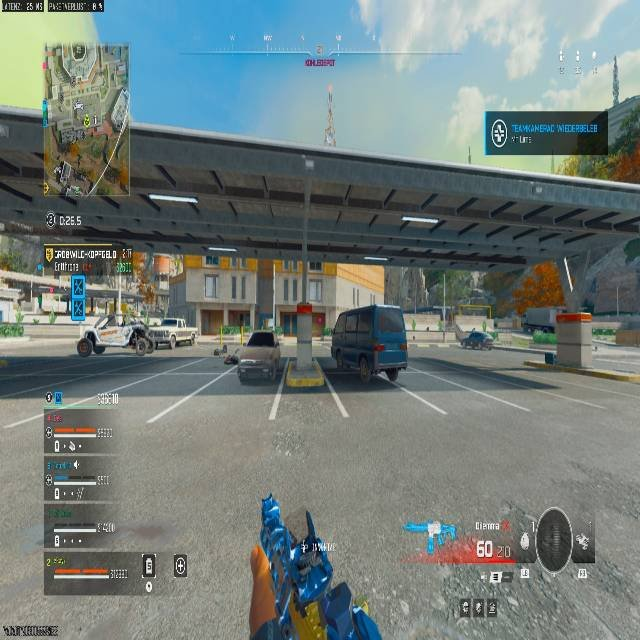player: (458, 328, 496, 350), (125, 324, 151, 352)
